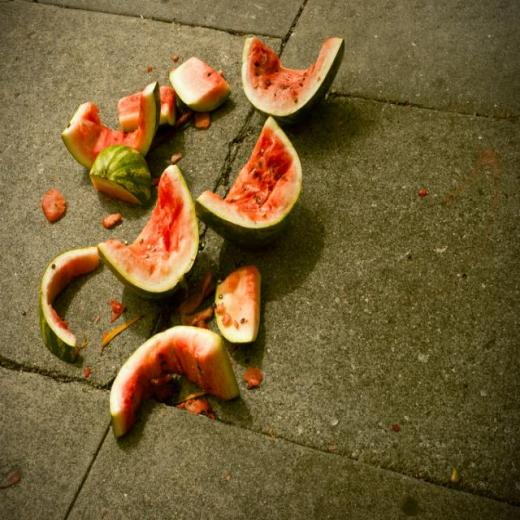Cherry: (39, 34, 345, 442)
